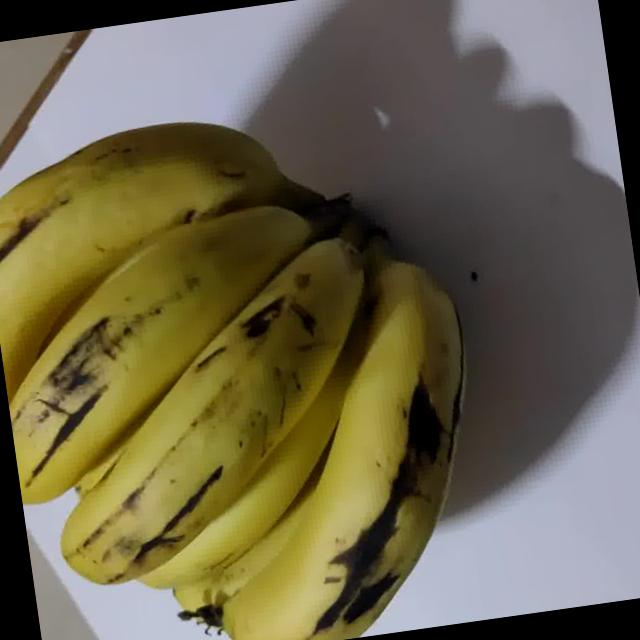apple: (0, 7, 589, 640)
